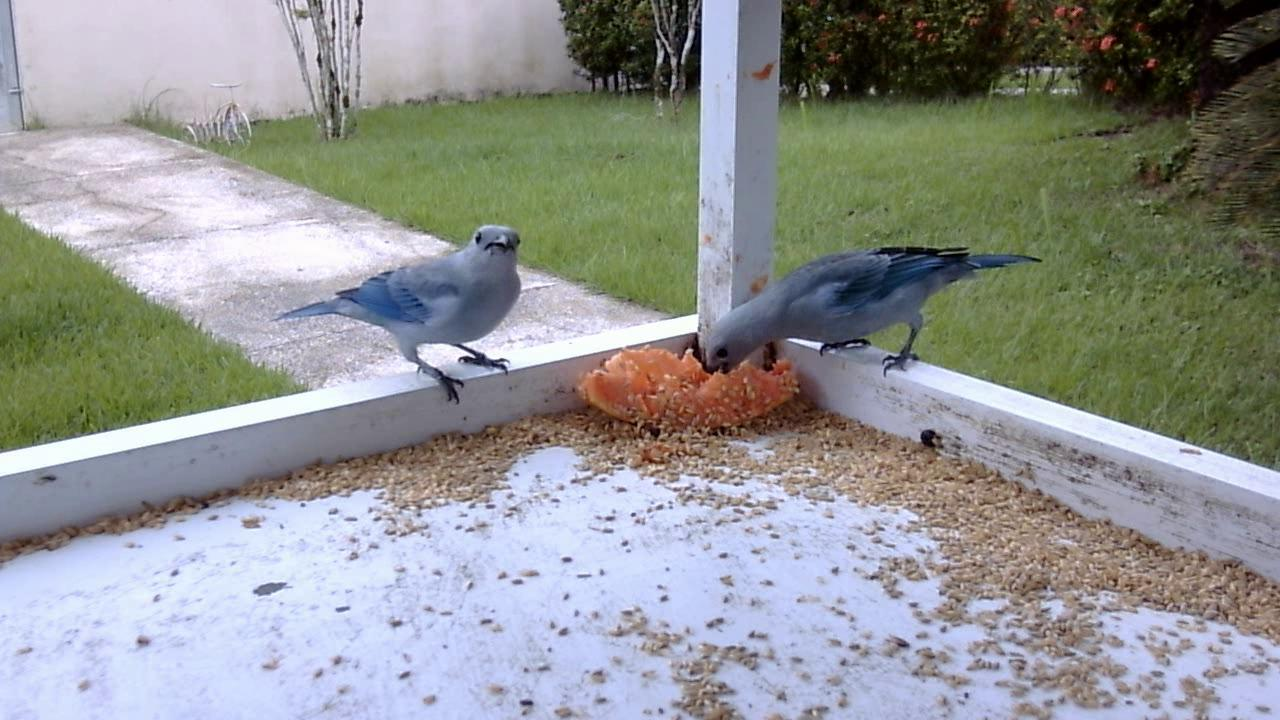sanhaco_da_amazonia: (271, 214, 528, 412), (698, 239, 1035, 382)
